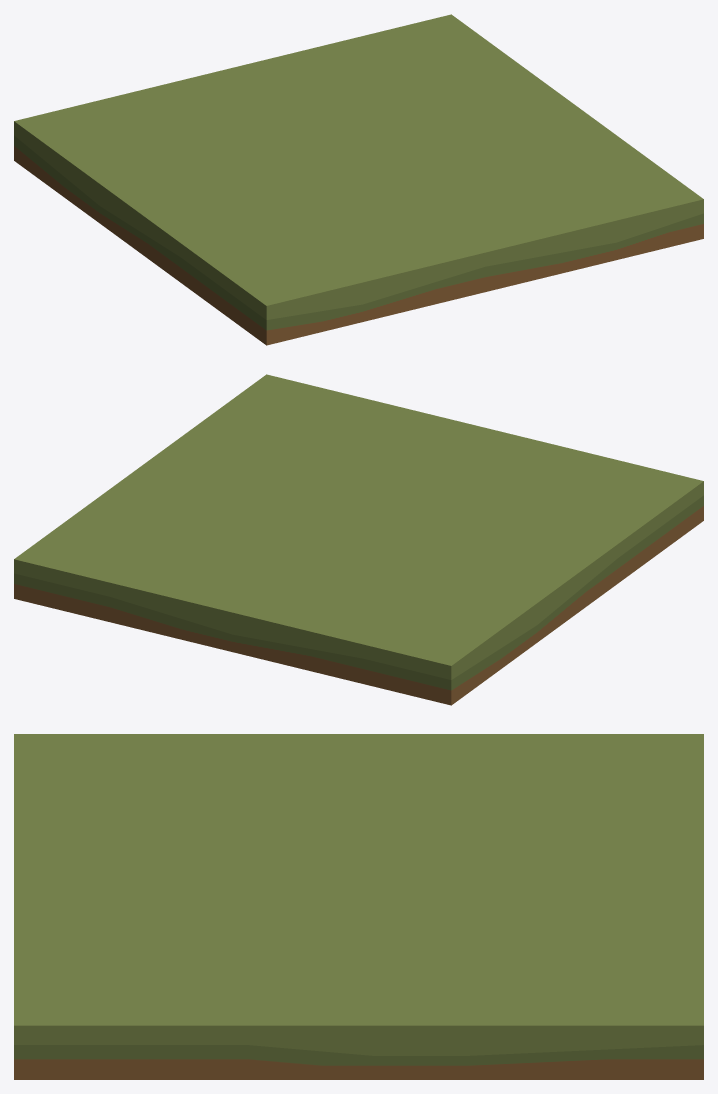
File: floor.glb
The picture shows the model from 3 angles, top to bottom: view 1: azimuth 30°, elevation 25°; view 2: azimuth 150°, elevation 25°; view 3: azimuth 270°, elevation 25°; orthographic projection. The views are drawn at different scales.
Parts seen in each view (by area): view 1: SM_Tile_Cube_Flat_01; view 2: SM_Tile_Cube_Flat_01; view 3: SM_Tile_Cube_Flat_01.
Part boxes in pixels (left/top/right/bottom): SM_Tile_Cube_Flat_01: left=14, top=14, right=703, bottom=345; SM_Tile_Cube_Flat_01: left=14, top=374, right=703, bottom=705; SM_Tile_Cube_Flat_01: left=14, top=734, right=703, bottom=1079.
Bounding box in the file's own units: 5 × 0.4324 × 5.
Materials: 1 (1 with a texture image).
